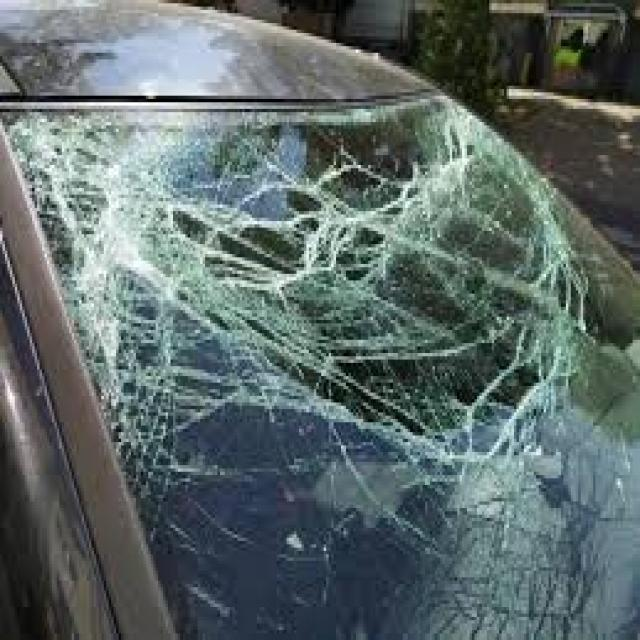damaged-windscreen: (0, 66, 640, 640)
